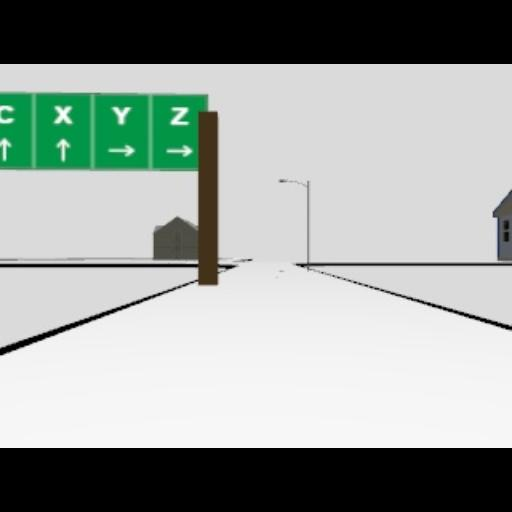C: (0, 104, 14, 124)
Right: (164, 144, 194, 156), (108, 144, 136, 156)
Straight: (56, 138, 70, 160), (0, 136, 12, 160)
X: (52, 104, 72, 124)
Y: (110, 106, 132, 124)
Z: (168, 106, 188, 124)
